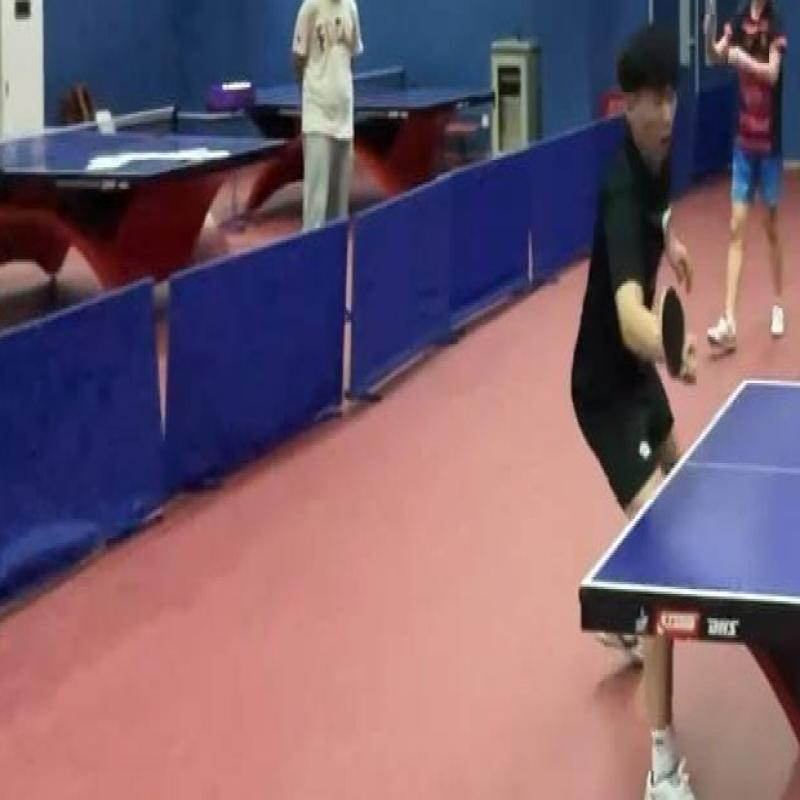bats: (648, 281, 699, 381)
